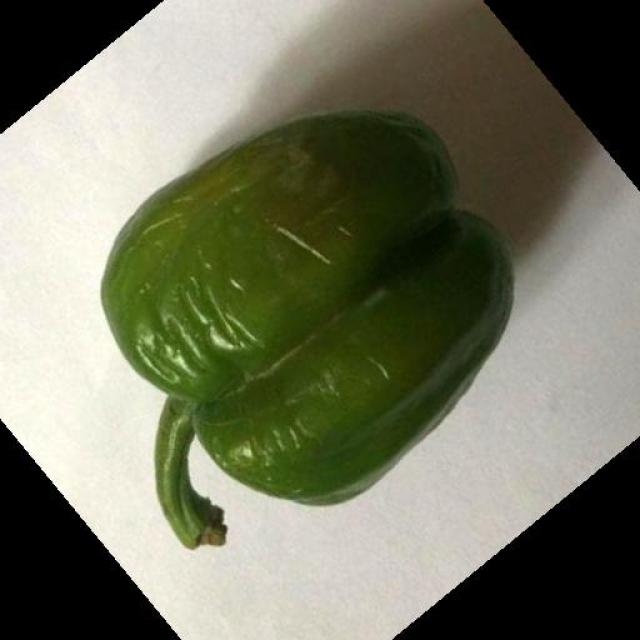Stale_Capsicum: (107, 74, 505, 492)
